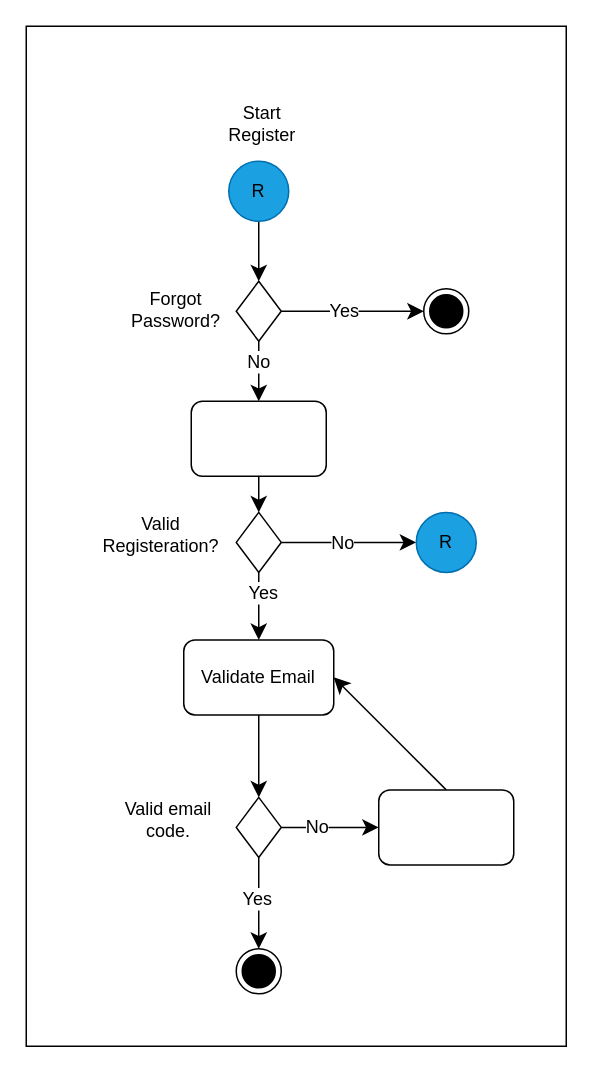
Image size: 593x1073. Some labels were removed from this diagram. The centre of each missing label's shape, as x and y in pixels:
"Input Account Details" belongs at (x=258, y=438).
"Resend Code" belongs at (x=445, y=826).
